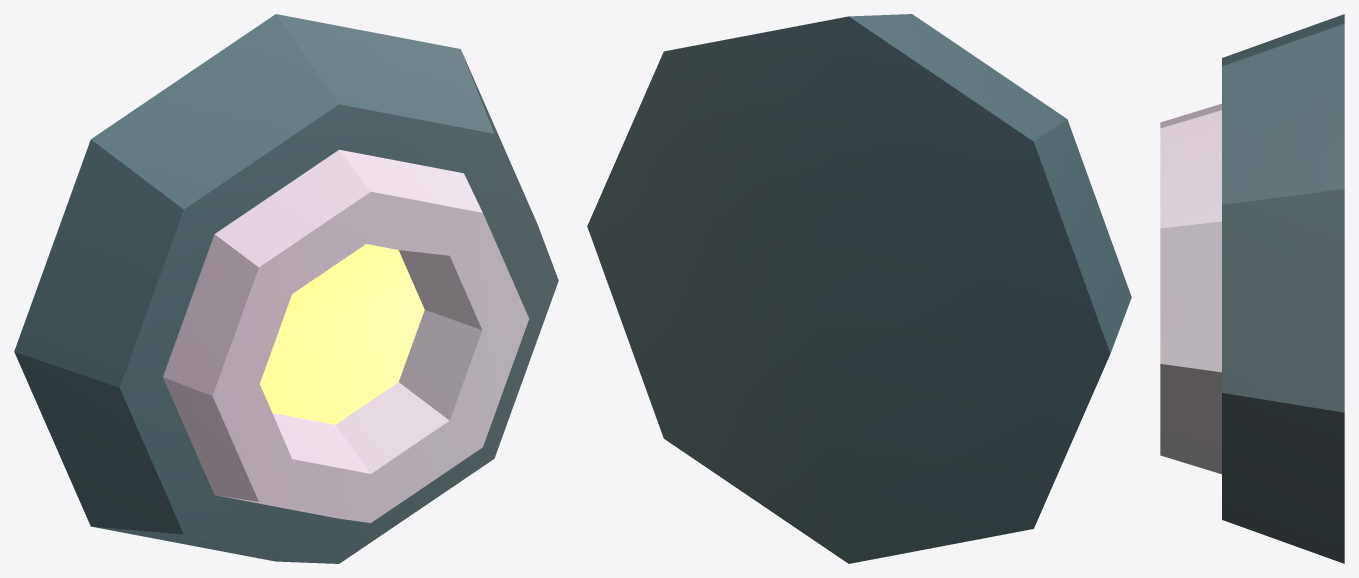
Rendered from Round_detal_light.fbx.
3 views of the same model, side by side, from view 1: azimuth 30°, elevation 25°; view 2: azimuth 150°, elevation 25°; view 3: azimuth 270°, elevation 25° (orthographic). The views are drawn at different scales.
Visible parts, largest first — view 1: Round_detal_light; view 2: Round_detal_light; view 3: Round_detal_light.
Part boxes in pixels (x1,y1,x2,y2): Round_detal_light: (14, 14, 558, 563); Round_detal_light: (587, 14, 1131, 563); Round_detal_light: (1160, 14, 1344, 563).
Size of the model in its own units: 49.2 by 49.2 by 15.49.
